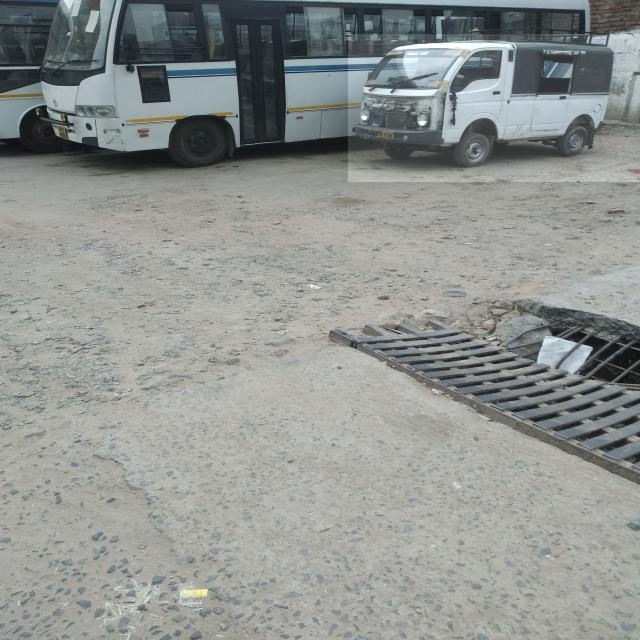Travller: (348, 34, 640, 182)
